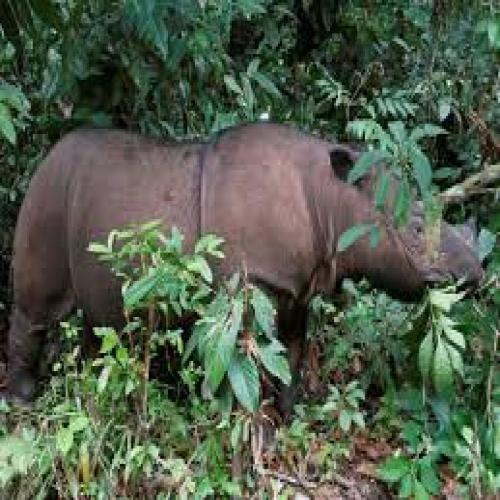rhino-endangered: (12, 122, 484, 382)
